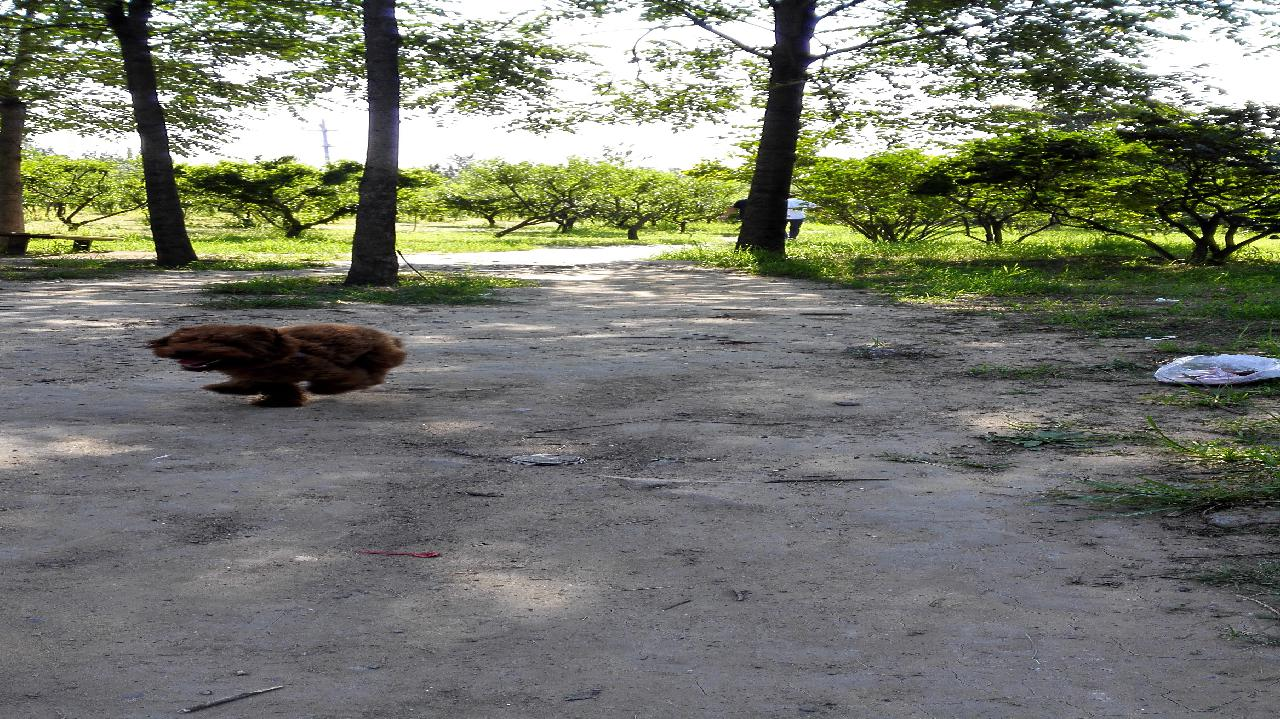zhuangzhuang: (137, 306, 456, 442)
